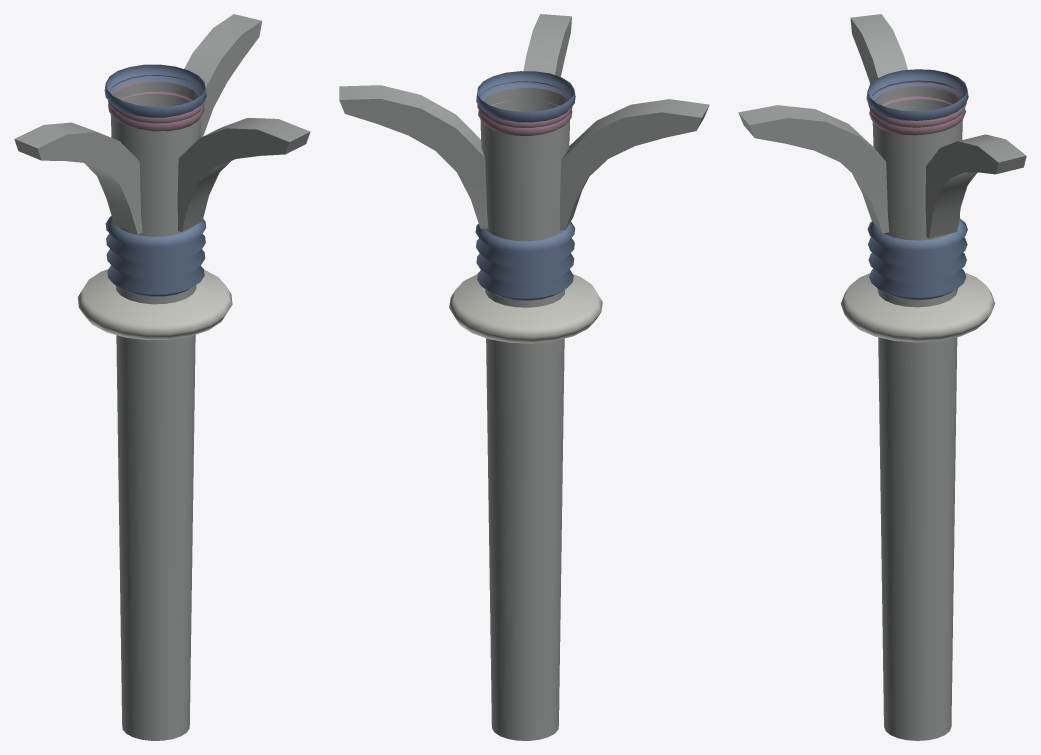
3 views of the same model, side by side, from view 1: azimuth 30°, elevation 25°; view 2: azimuth 150°, elevation 25°; view 3: azimuth 270°, elevation 25° (orthographic).
Visible parts, largest first — view 1: G:\FFXIV-MapTools\exports\y6f2\bg\ex5\02_ykt_y6\fld\y6f2\bgp (×4); view 2: G:\FFXIV-MapTools\exports\y6f2\bg\ex5\02_ykt_y6\fld\y6f2\bgp (×4); view 3: G:\FFXIV-MapTools\exports\y6f2\bg\ex5\02_ykt_y6\fld\y6f2\bgp (×4).
Part boxes in pixels (x1=…): G:\FFXIV-MapTools\exports\y6f2\bg\ex5\02_ykt_y6\fld\y6f2\bgp (×4): x1=14, y1=14, x2=310, y2=740; G:\FFXIV-MapTools\exports\y6f2\bg\ex5\02_ykt_y6\fld\y6f2\bgp (×4): x1=339, y1=14, x2=709, y2=740; G:\FFXIV-MapTools\exports\y6f2\bg\ex5\02_ykt_y6\fld\y6f2\bgp (×4): x1=738, y1=14, x2=1026, y2=740.
Bounding box in the file's own units: 4.96 × 9.91 × 4.07.
